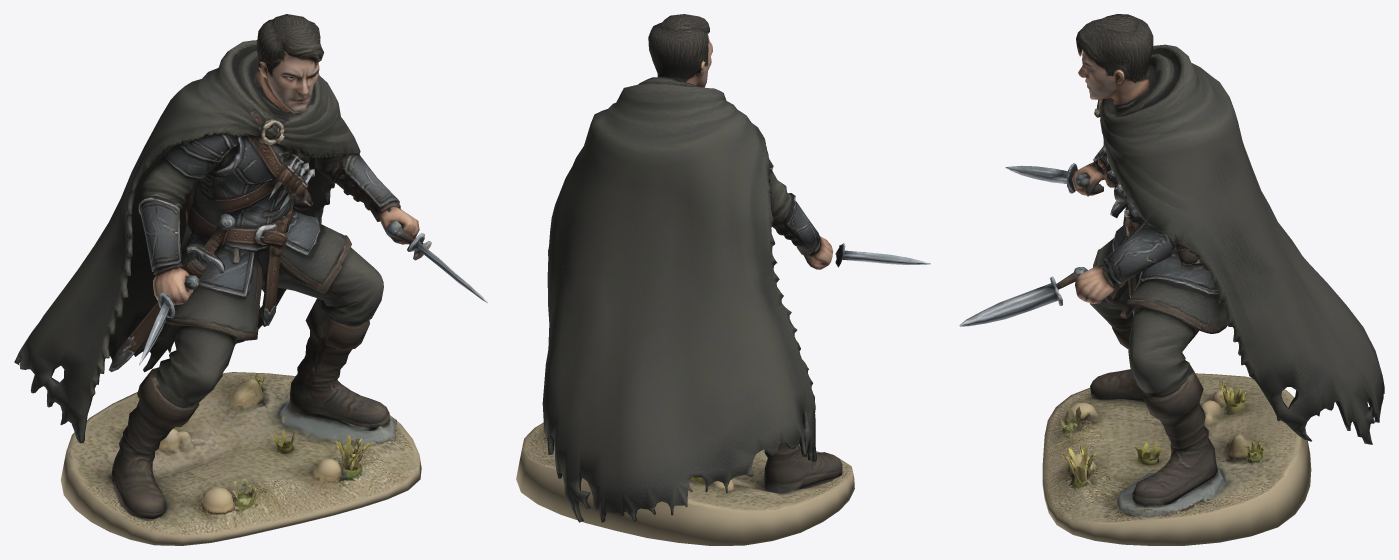
Rendered from assassin_alt1_male.glb.
The picture shows the model from 3 angles, left to right: view 1: azimuth 30°, elevation 25°; view 2: azimuth 150°, elevation 25°; view 3: azimuth 270°, elevation 25°; orthographic projection. The views are drawn at different scales.
Visible parts, largest first — view 1: tripo_node_e6aab158-6339-4564-864c-5797ea532128; view 2: tripo_node_e6aab158-6339-4564-864c-5797ea532128; view 3: tripo_node_e6aab158-6339-4564-864c-5797ea532128.
Boxes of the visible parts, box(x1,y1,x2,y2) form: tripo_node_e6aab158-6339-4564-864c-5797ea532128: box(14, 14, 487, 545); tripo_node_e6aab158-6339-4564-864c-5797ea532128: box(516, 14, 930, 545); tripo_node_e6aab158-6339-4564-864c-5797ea532128: box(959, 14, 1384, 545).
Bounding box in the file's own units: 0.752 × 0.998 × 0.8262.
1 material, 1 textured.
